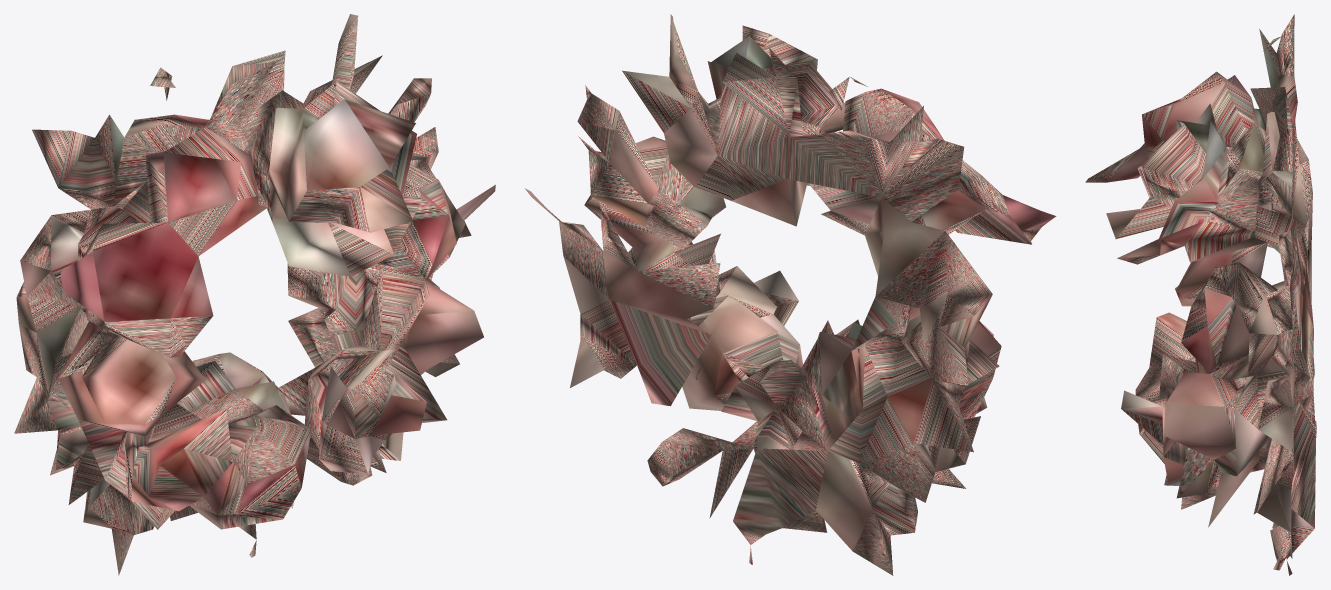
3 renders of one model, left to right at view 1: azimuth 30°, elevation 25°; view 2: azimuth 150°, elevation 25°; view 3: azimuth 270°, elevation 25°, orthographic. The views are drawn at different scales.
Parts seen in each view (by area): view 1: Rose-Frame-10-24; view 2: Rose-Frame-10-24; view 3: Rose-Frame-10-24.
Boxes of the visible parts, x1,y1,x2,y2 form: Rose-Frame-10-24: (14,14,495,575); Rose-Frame-10-24: (524,14,1056,575); Rose-Frame-10-24: (1085,14,1316,575).
Bounding box in the file's own units: 0.3025 × 0.3136 × 0.1301.
Materials: 1 (1 with a texture image).
